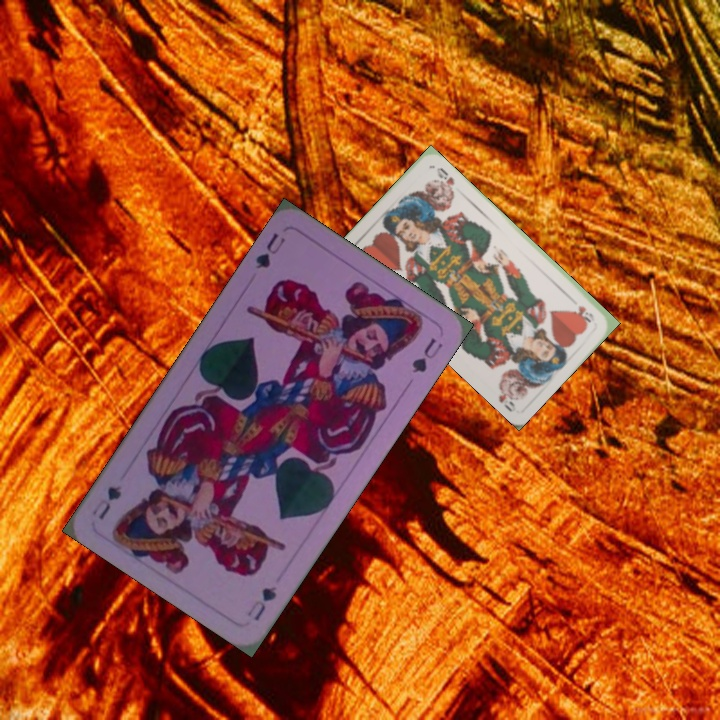GU: (251, 228, 288, 272), (243, 581, 280, 624)
HO: (574, 301, 598, 325)
